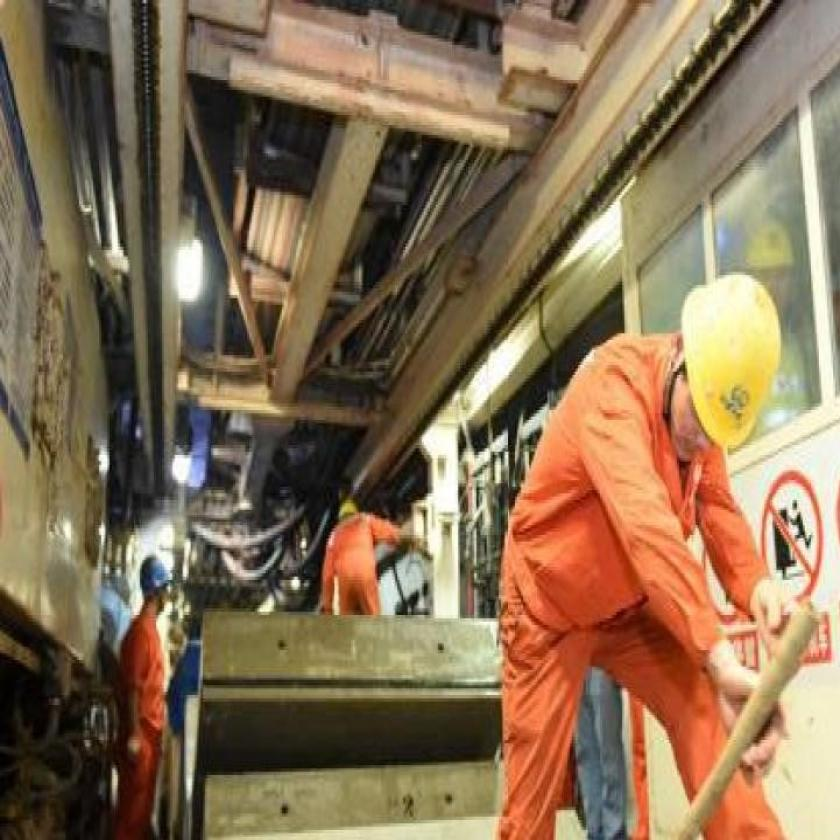Con_casco: (674, 271, 784, 466), (139, 551, 176, 623)
